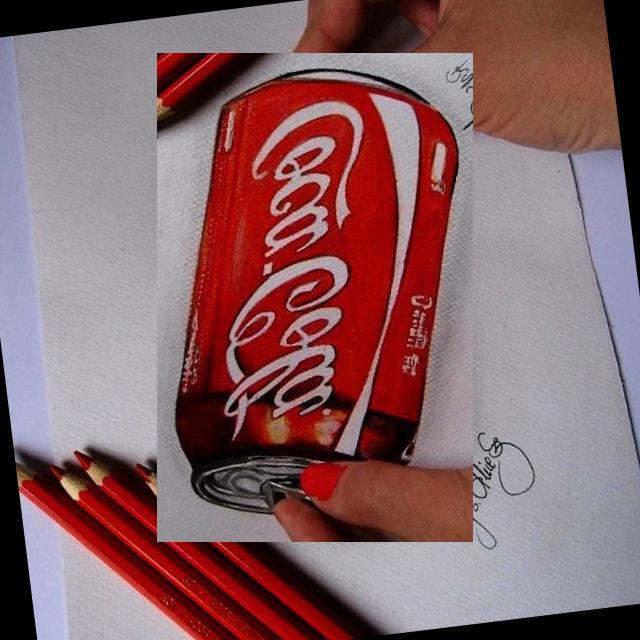coca-cola: (157, 53, 473, 542)
